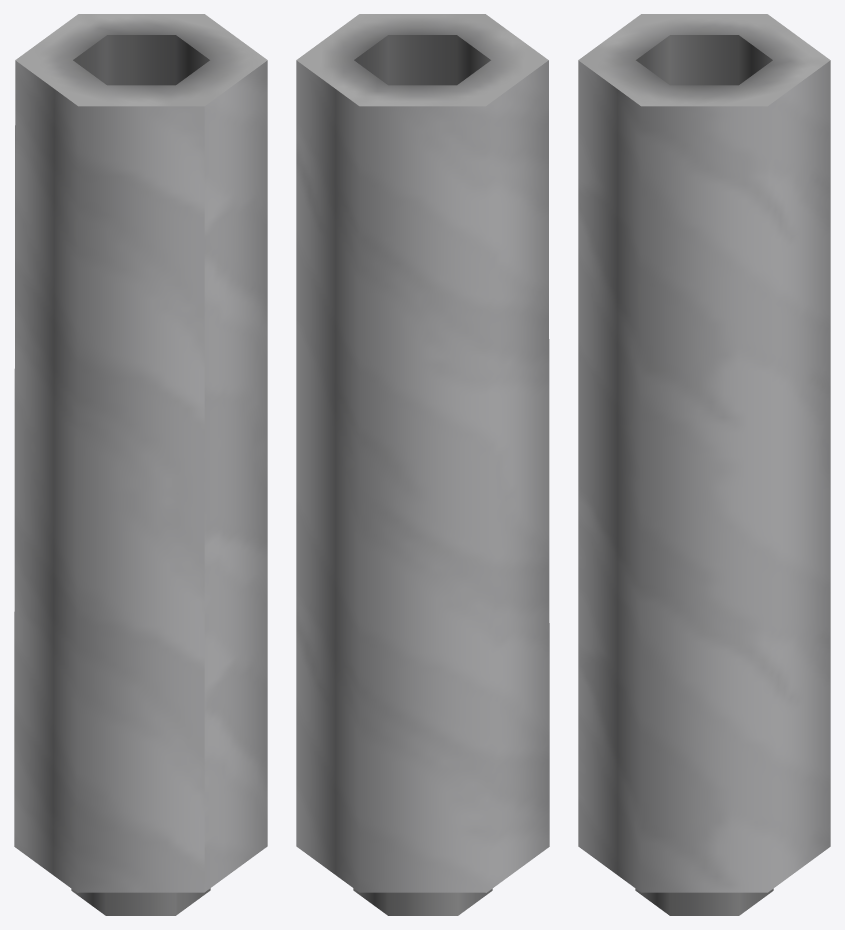
File: TLOG_PipeShotgunChoke.fbx
3 renders of one model, left to right at view 1: azimuth 30°, elevation 25°; view 2: azimuth 150°, elevation 25°; view 3: azimuth 270°, elevation 25°, orthographic.
Visible parts, largest first — view 1: MetalPipe.001; view 2: MetalPipe.001; view 3: MetalPipe.001.
Part boxes in pixels (x1,y1,x2,y2): MetalPipe.001: [14, 14, 267, 915]; MetalPipe.001: [296, 14, 549, 915]; MetalPipe.001: [578, 14, 830, 915].
Size of the model in its own units: 0.0173 by 0.0721 by 0.0199.
